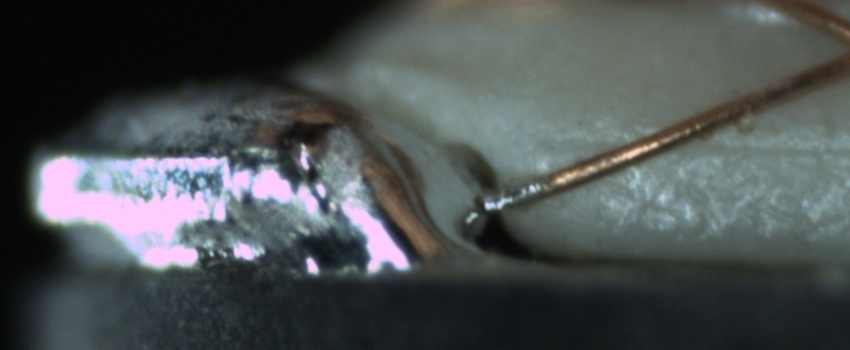DL: (543, 114, 850, 176)
TS: (475, 180, 544, 216)
